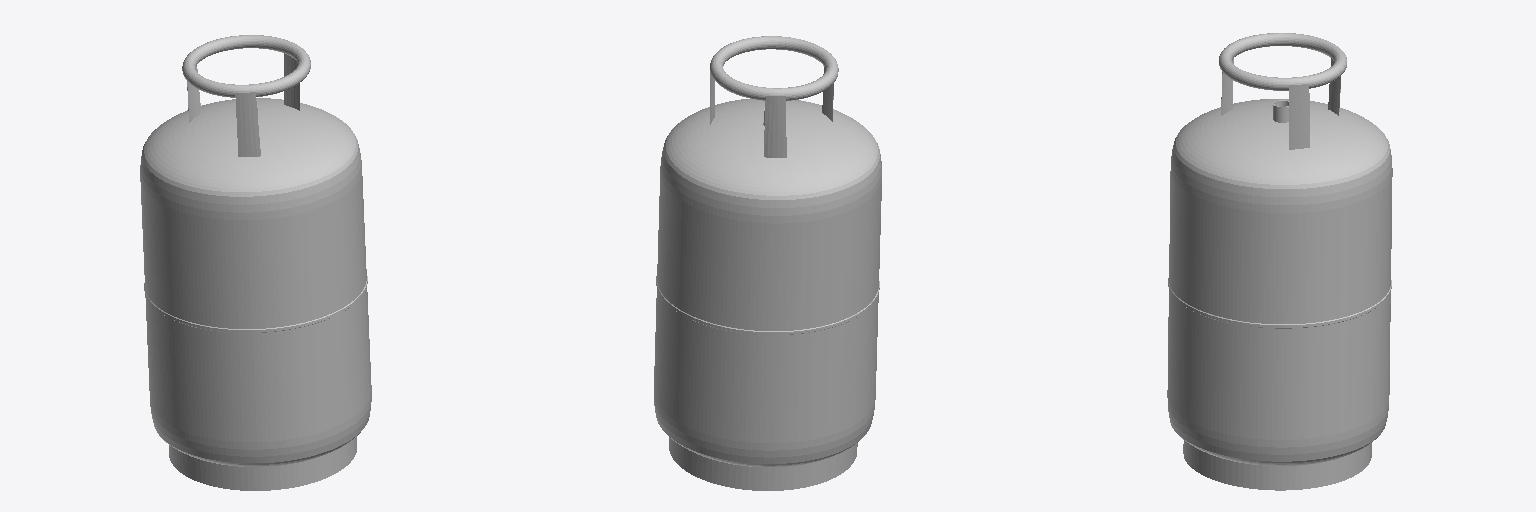
File: gas container 2.obj
The picture shows the model from 3 angles: view 1: azimuth 30°, elevation 25°; view 2: azimuth 150°, elevation 25°; view 3: azimuth 270°, elevation 25°; orthographic projection.
Parts seen in each view (by area): view 1: Gas_can; view 2: Gas_can; view 3: Gas_can.
Part boxes in pixels (x1,y1,x2,y2): Gas_can: (140, 35, 371, 490); Gas_can: (654, 36, 881, 490); Gas_can: (1167, 33, 1392, 490).
Bounding box in the file's own units: 5.4 × 10.23 × 5.26.